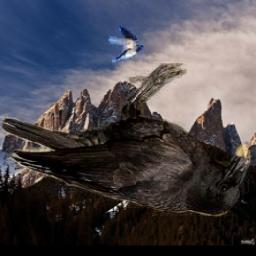Crow: (1, 63, 254, 217)
Swallow: (107, 27, 143, 64)
